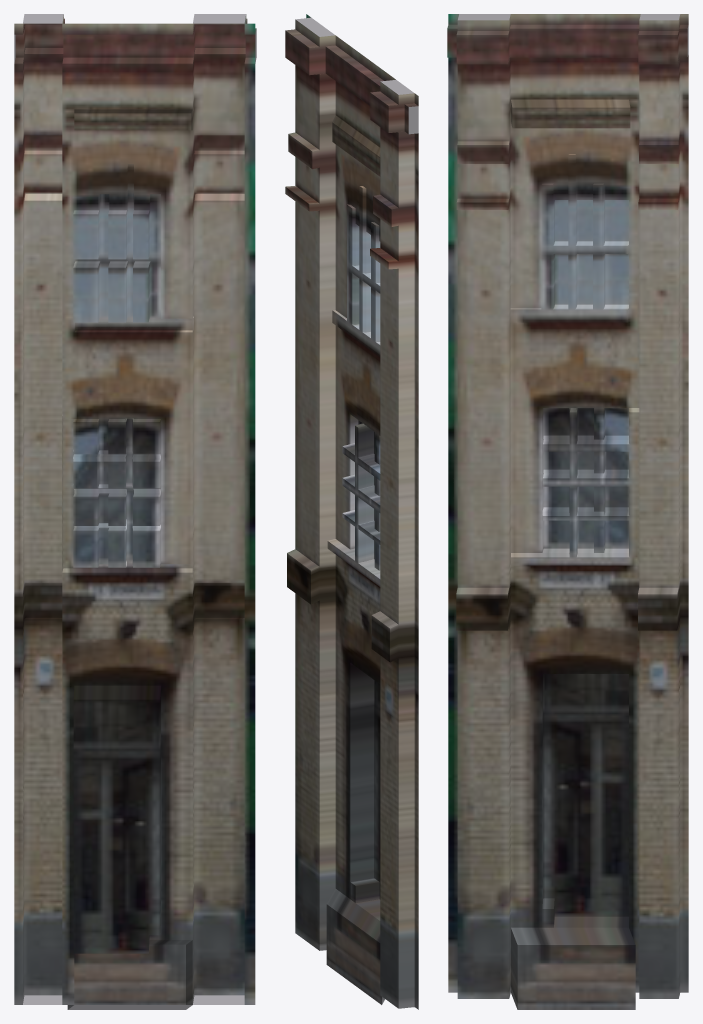
The model's file is hfright.fbx.
3 renders of one model, left to right at view 1: azimuth 90°, elevation 25°; view 2: azimuth 210°, elevation 25°; view 3: azimuth 270°, elevation 25°, orthographic. The views are drawn at different scales.
Visible parts, largest first — view 1: hfright; view 2: hfright; view 3: hfright.
Boxes of the visible parts, x1,y1,x2,y2 form: hfright: (14,14,256,1009); hfright: (285,14,418,1009); hfright: (447,14,688,1009).
Size of the model in its own units: 35.27 by 642 by 142.
1 material, 1 textured.
